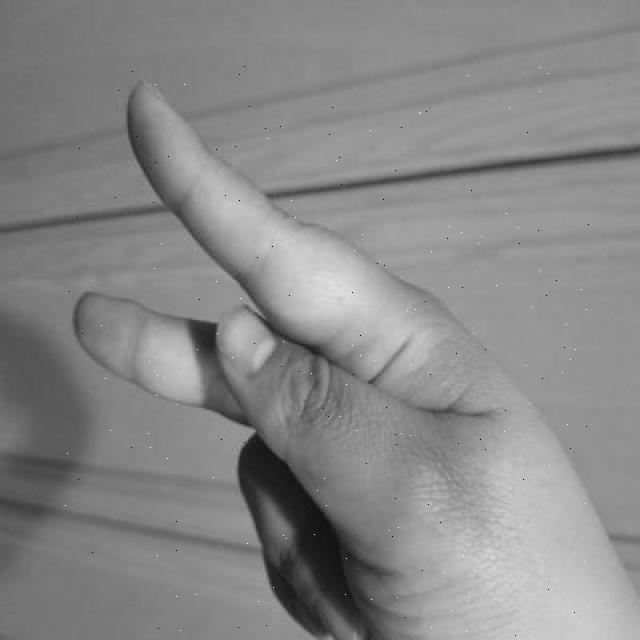P: (62, 66, 597, 638)
